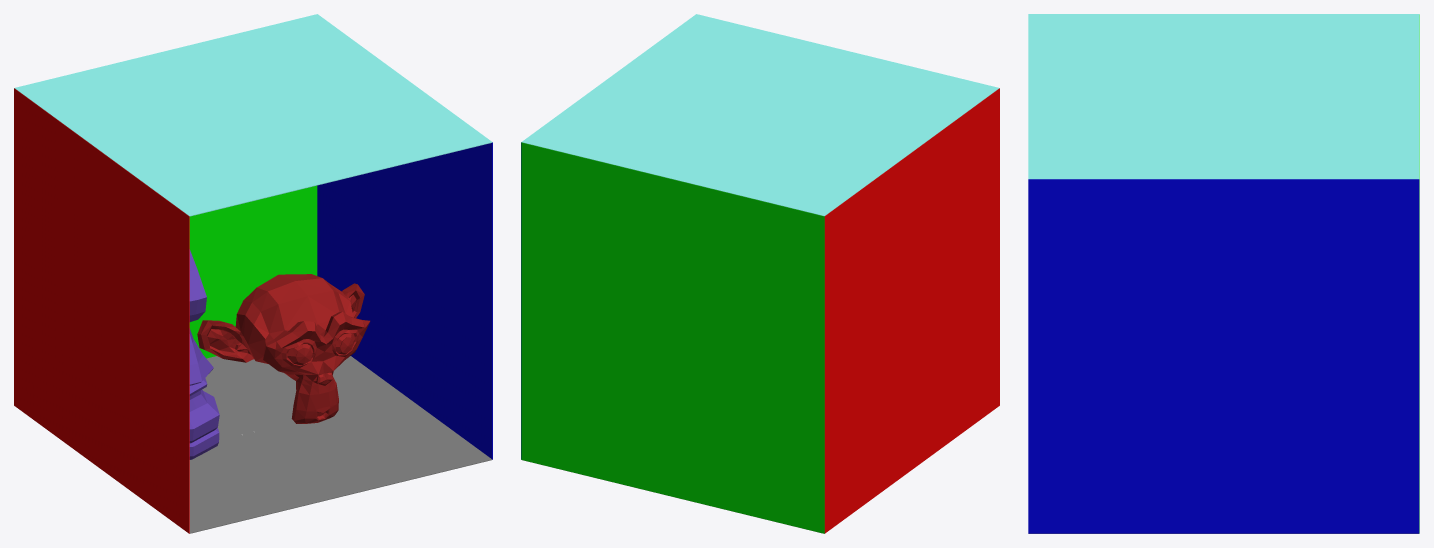
3 renders of one model, left to right at view 1: azimuth 30°, elevation 25°; view 2: azimuth 150°, elevation 25°; view 3: azimuth 270°, elevation 25°, orthographic. The views are drawn at different scales.
Parts seen in each view (by area): view 1: Left, Ceiling, Right, Floor, Suzanne, Back, Knight; view 2: Back, Left, Ceiling; view 3: Right, Ceiling, Back.
Boxes of the visible parts, x1,y1,x2,y2 form: Left: (14,88,189,533); Ceiling: (14,14,492,216); Right: (317,142,492,459); Floor: (189,356,492,533); Suzanne: (197,274,370,423); Back: (189,185,317,358); Knight: (189,249,219,459); Back: (521,142,824,533); Left: (824,88,999,533); Ceiling: (521,14,999,216); Right: (1028,179,1419,533); Ceiling: (1028,14,1419,179); Back: (1419,14,1419,533).
Size of the model in its own units: 5.01 by 5.01 by 5.
